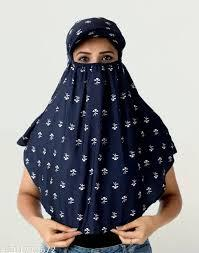cap: (59, 11, 128, 55)
scarf-kerchief: (17, 60, 180, 229)
